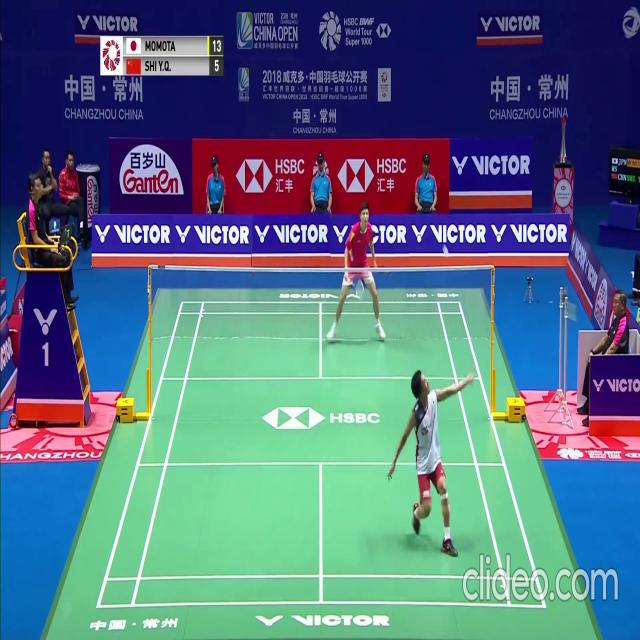Shuttlecock: (444, 246, 448, 254)
